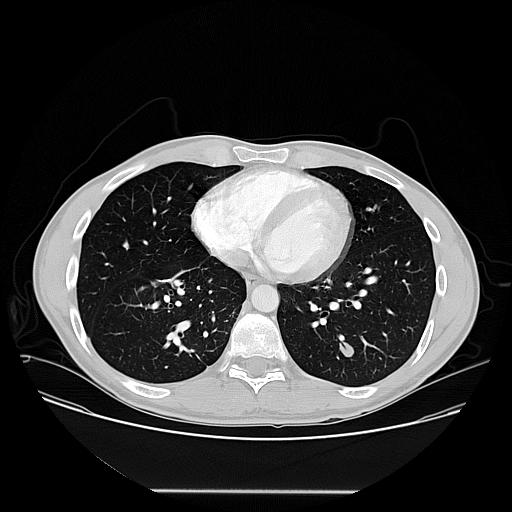nodule: (337, 340, 357, 360)
